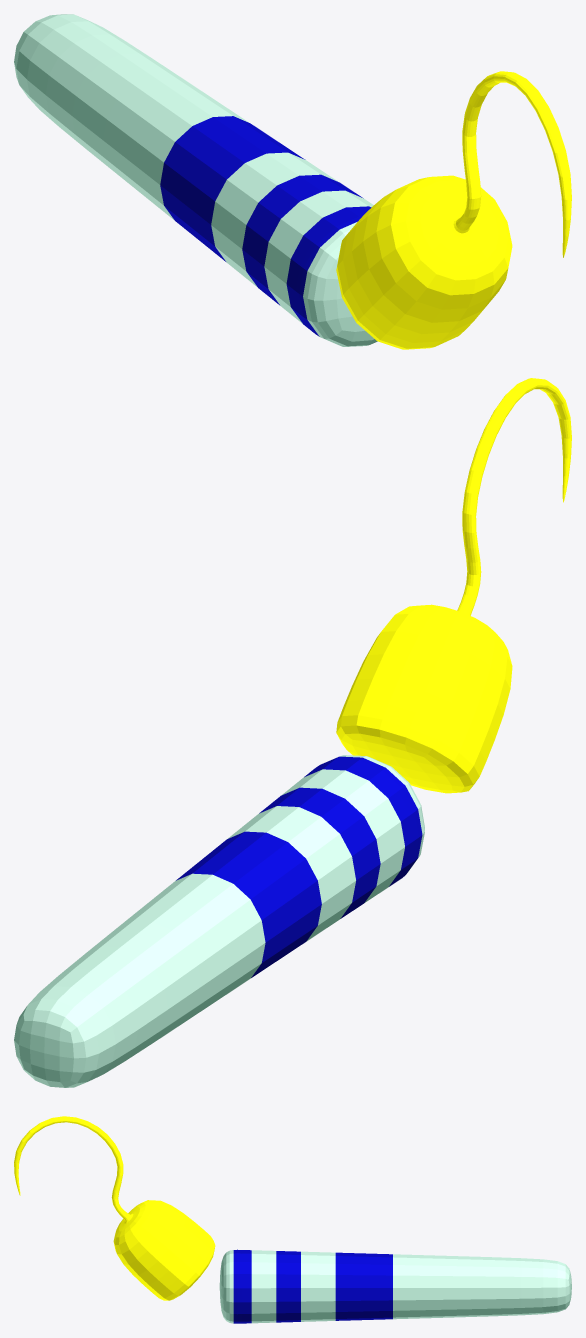
File: ModelCrukGun.fbx
The picture shows the model from 3 angles, top to bottom: view 1: azimuth 30°, elevation 25°; view 2: azimuth 150°, elevation 25°; view 3: azimuth 270°, elevation 25°; orthographic projection. The views are drawn at different scales.
Parts seen in each view (by area): view 1: Cube.001, Cube; view 2: Cube.001, Cube; view 3: Cube.001, Cube.
Part boxes in pixels (bbox=[...]): Cube.001: bbox=[14, 14, 377, 346]; Cube: bbox=[336, 71, 571, 349]; Cube.001: bbox=[14, 755, 424, 1087]; Cube: bbox=[336, 378, 571, 793]; Cube.001: bbox=[219, 1249, 571, 1323]; Cube: bbox=[14, 1116, 215, 1300].
Bounding box in the file's own units: 45.13 × 126 × 312.
